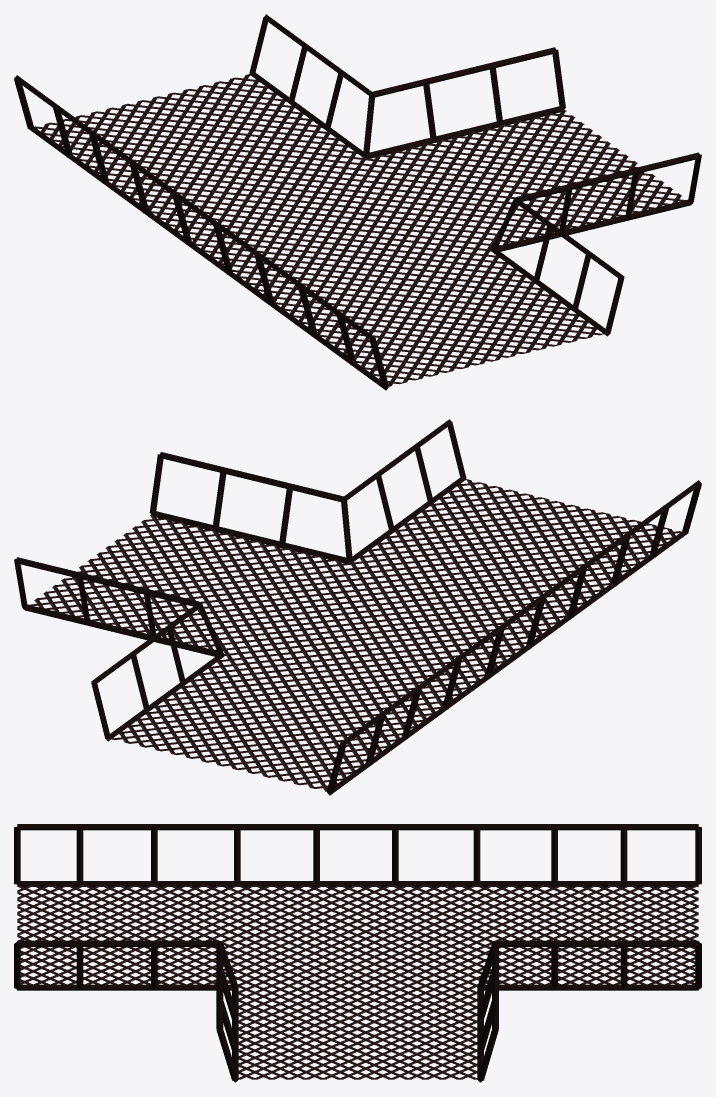
Rendered from Platform_T.fbx.
3 views of the same model, one above another, from view 1: azimuth 30°, elevation 25°; view 2: azimuth 150°, elevation 25°; view 3: azimuth 270°, elevation 25° (orthographic). The views are drawn at different scales.
Visible parts, largest first — view 1: Plat_T, Plat_T_Railing1, Plat_T_Railing2, Plat_T_Railing3; view 2: Plat_T, Plat_T_Railing1, Plat_T_Railing3, Plat_T_Railing2; view 3: Plat_T, Plat_T_Railing1, Plat_T_Railing3, Plat_T_Railing2.
Boxes of the visible parts, x1=… form: Plat_T: x1=34, y1=74, x2=685, y2=386; Plat_T_Railing1: x1=14, y1=75, x2=388, y2=390; Plat_T_Railing2: x1=249, y1=14, x2=565, y2=158; Plat_T_Railing3: x1=491, y1=152, x2=701, y2=336; Plat_T: x1=28, y1=479, x2=681, y2=791; Plat_T_Railing1: x1=327, y1=480, x2=701, y2=795; Plat_T_Railing3: x1=149, y1=419, x2=466, y2=563; Plat_T_Railing2: x1=14, y1=557, x2=224, y2=741; Plat_T: x1=17, y1=885, x2=698, y2=1079; Plat_T_Railing1: x1=14, y1=824, x2=701, y2=886; Plat_T_Railing3: x1=14, y1=940, x2=238, y2=1082; Plat_T_Railing2: x1=477, y1=940, x2=701, y2=1082.
Size of the model in its own units: 107 by 13.74 by 152.
2 materials, 1 textured.
